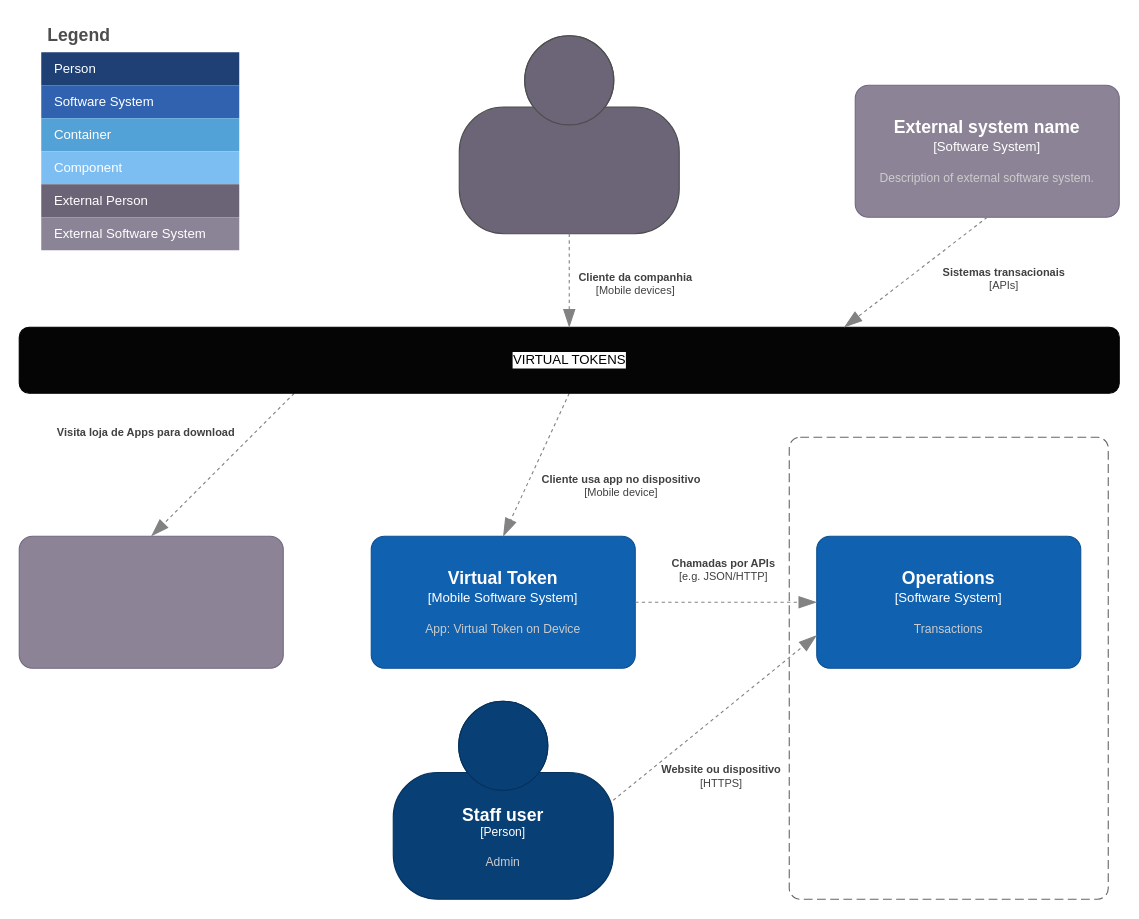
This 1139x919 diagram has some shape labels left out. Each missing label, with the box of its shape:
Applications Store [Software System] App Store (Google | Apple): (18, 535, 283, 668)
Cloud Functions & Database [GCP]: (788, 436, 1108, 899)
External User 1 [Person] External user that needs a virtualtoken: (458, 35, 679, 234)
